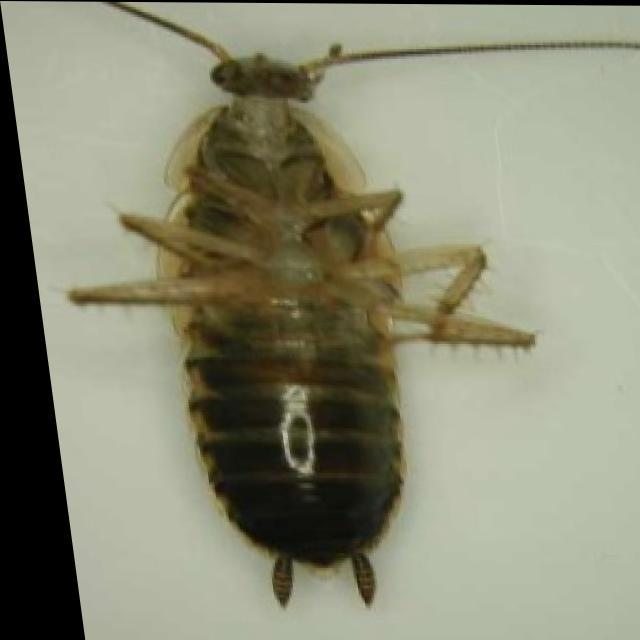cockroach: (104, 0, 490, 614)
